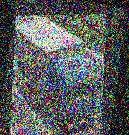truck: (0, 5, 116, 135)
